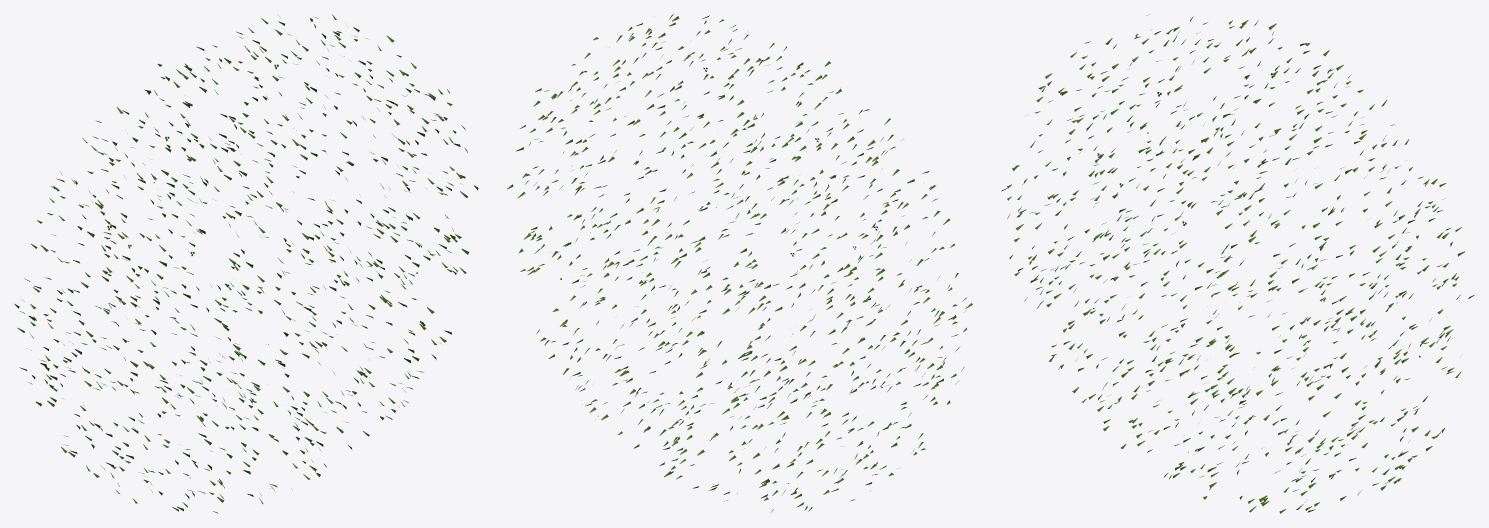
Rendered from Grass_Tile_FormalGarden.glb.
The picture shows the model from 3 angles, left to right: view 1: azimuth 30°, elevation 25°; view 2: azimuth 150°, elevation 25°; view 3: azimuth 330°, elevation 25°; orthographic projection.
Parts seen in each view (by area): view 1: Grass_Tile_FormalGarden; view 2: Grass_Tile_FormalGarden; view 3: Grass_Tile_FormalGarden.
Part boxes in pixels (box(x1,y1,x2,y2)): Grass_Tile_FormalGarden: box(14, 14, 478, 513); Grass_Tile_FormalGarden: box(507, 14, 972, 512); Grass_Tile_FormalGarden: box(1001, 14, 1474, 513).
Size of the model in its own units: 1.89 by 1.89 by 0.0473.
